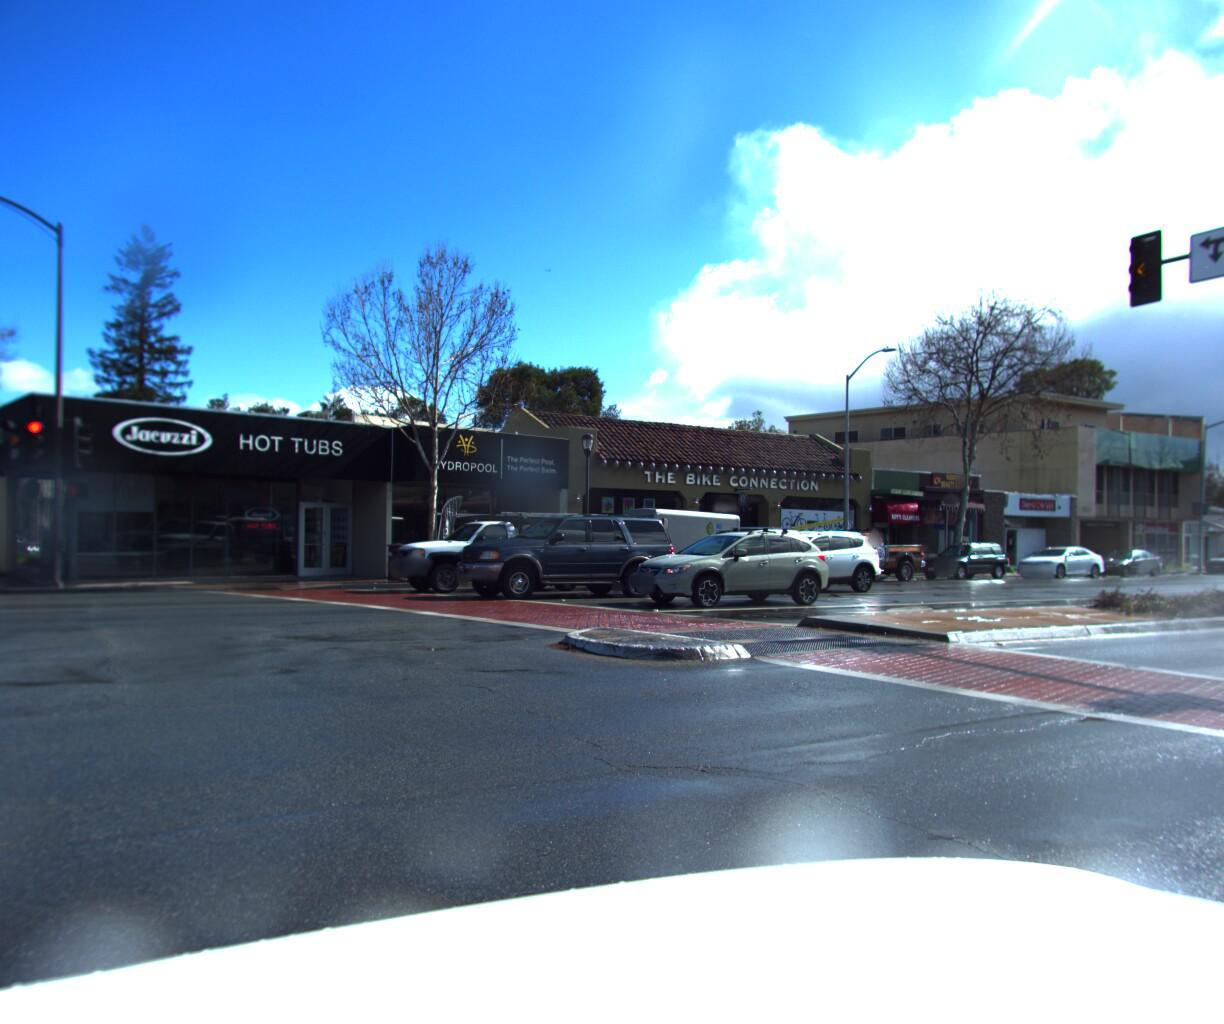car: (441, 506, 680, 601), (379, 502, 619, 595), (609, 516, 854, 606), (713, 525, 892, 592), (776, 520, 926, 584), (904, 535, 1015, 578), (1005, 540, 1107, 578), (1076, 543, 1165, 573), (1192, 544, 1224, 573)
other_vehicle: (579, 499, 762, 590)
